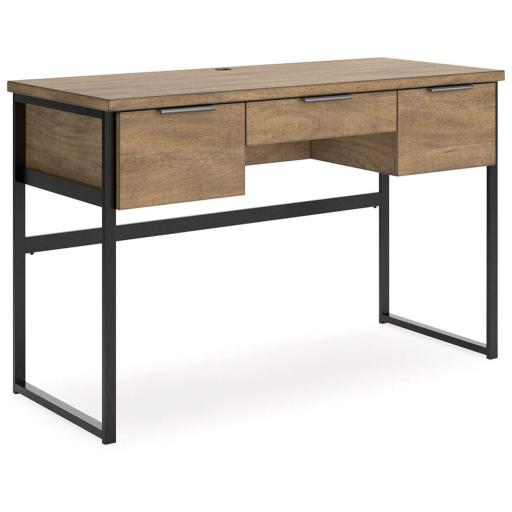table: (6, 60, 503, 413)
